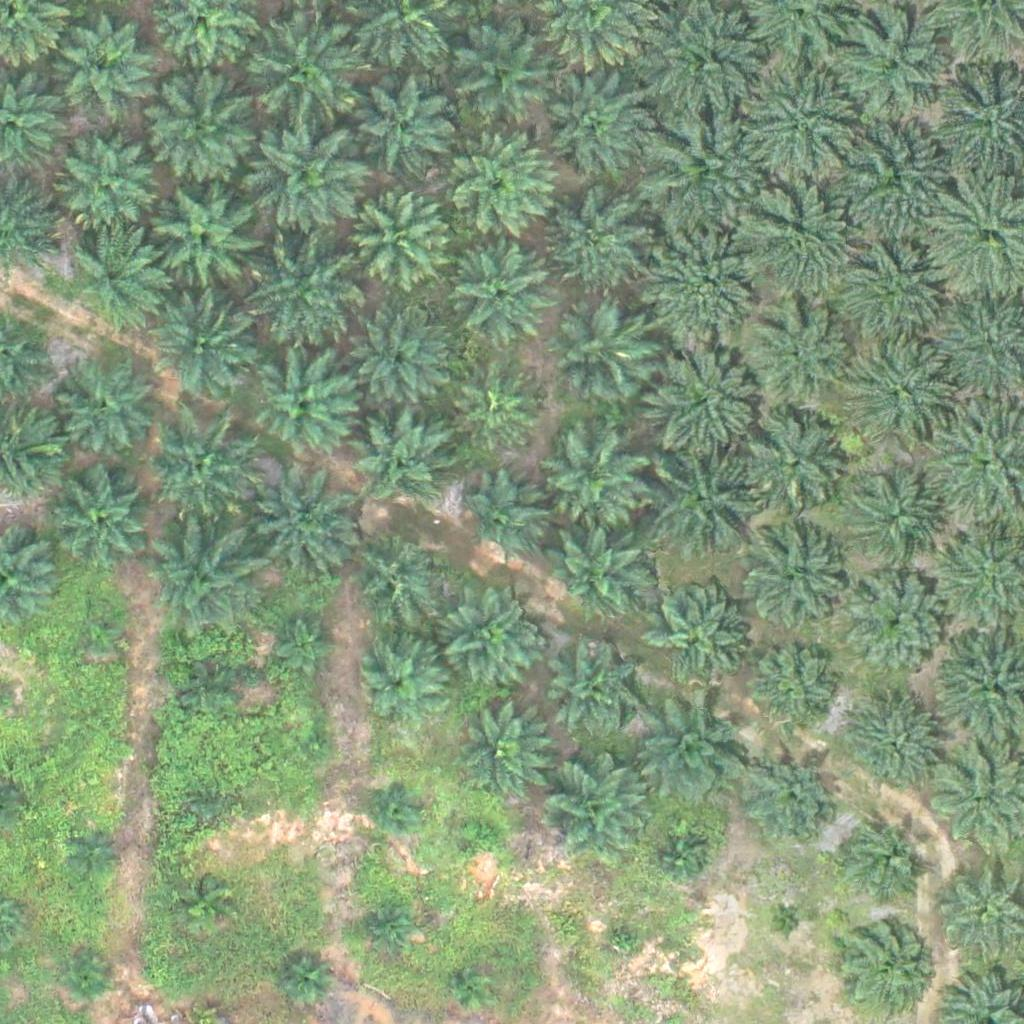Kelapa_Sawit: (245, 118, 370, 244), (530, 59, 655, 185), (647, 111, 772, 237), (644, 220, 769, 346), (735, 185, 860, 311), (742, 63, 867, 188), (639, 337, 764, 462), (146, 73, 259, 186), (248, 469, 361, 582), (246, 239, 359, 352), (839, 6, 952, 119), (648, 448, 761, 561), (639, 697, 752, 810), (248, 15, 360, 129), (445, 133, 557, 247), (147, 413, 259, 526), (143, 521, 255, 634), (56, 23, 156, 124), (546, 521, 646, 622), (441, 590, 541, 691), (352, 314, 452, 415), (352, 408, 452, 509), (345, 527, 445, 628), (253, 354, 353, 455), (157, 190, 257, 291), (150, 287, 250, 388), (51, 470, 151, 571), (58, 358, 158, 459), (67, 223, 167, 324), (54, 135, 154, 236), (647, 588, 747, 689), (744, 536, 844, 637), (742, 415, 842, 516), (747, 303, 847, 404), (855, 345, 955, 446), (848, 574, 948, 675), (844, 699, 944, 800), (833, 808, 933, 909), (835, 914, 935, 1015), (546, 762, 646, 863), (359, 71, 459, 171), (449, 25, 549, 125), (546, 197, 646, 297), (554, 305, 654, 405), (542, 431, 642, 531), (453, 247, 553, 347), (350, 192, 450, 292), (836, 238, 936, 338), (449, 702, 549, 802), (846, 125, 945, 225), (461, 475, 549, 563), (454, 367, 542, 455), (548, 645, 636, 733), (851, 479, 939, 567), (359, 642, 446, 731), (748, 753, 835, 842), (747, 646, 834, 734), (275, 610, 337, 673), (179, 879, 229, 930), (276, 959, 326, 1010), (654, 830, 704, 881), (72, 825, 122, 876), (75, 609, 125, 659), (186, 668, 236, 718), (360, 904, 410, 954), (373, 781, 423, 831), (463, 816, 501, 854), (454, 967, 492, 1005), (606, 923, 644, 961), (768, 904, 806, 942), (69, 956, 107, 993), (192, 783, 229, 821), (297, 728, 334, 766)
